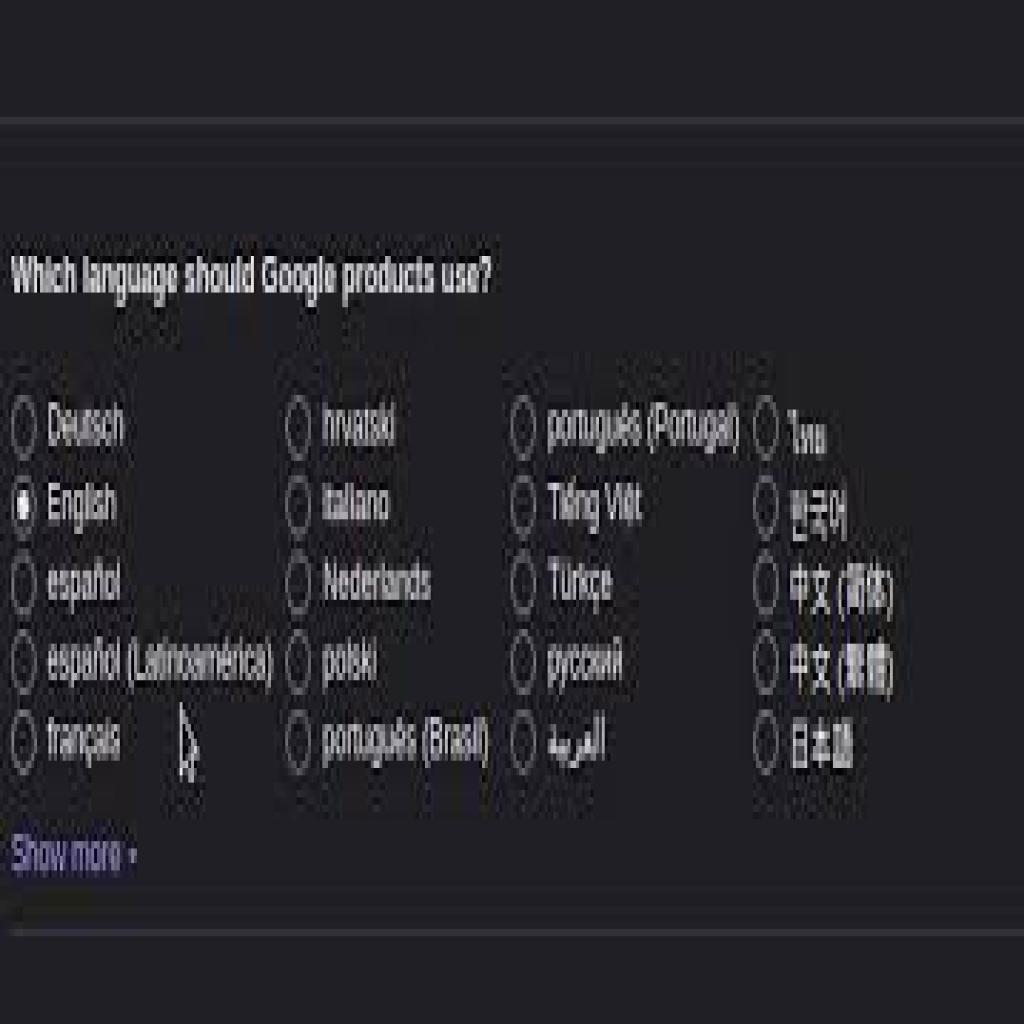dropdown: (7, 827, 142, 882)
label: (10, 251, 494, 306), (44, 637, 275, 696), (547, 401, 742, 464), (322, 717, 493, 779), (787, 635, 897, 703), (785, 562, 896, 623), (544, 475, 647, 531), (544, 634, 628, 701), (317, 561, 435, 605), (45, 398, 131, 454), (44, 714, 126, 771), (784, 481, 850, 548), (42, 560, 125, 611), (44, 481, 121, 534), (320, 400, 401, 450), (320, 480, 394, 533), (547, 560, 616, 615), (545, 712, 610, 770), (788, 721, 859, 774), (321, 638, 382, 698), (785, 407, 830, 460)
radio: (507, 552, 541, 622), (10, 631, 42, 699), (508, 477, 542, 540), (751, 475, 782, 543), (9, 474, 41, 539), (285, 631, 315, 700), (11, 711, 40, 782), (508, 634, 539, 700), (507, 714, 539, 776), (284, 712, 314, 778), (752, 397, 782, 460), (285, 398, 313, 464), (11, 400, 40, 463), (511, 397, 538, 462), (755, 712, 782, 776), (754, 555, 782, 616), (754, 634, 780, 699), (287, 554, 313, 617), (14, 554, 38, 618), (287, 480, 313, 538)
